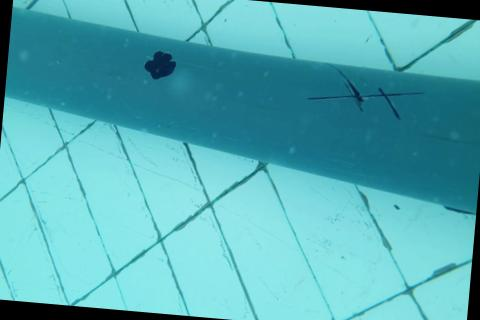kebocoran: (141, 45, 177, 84)
keretakan: (307, 64, 425, 122)
